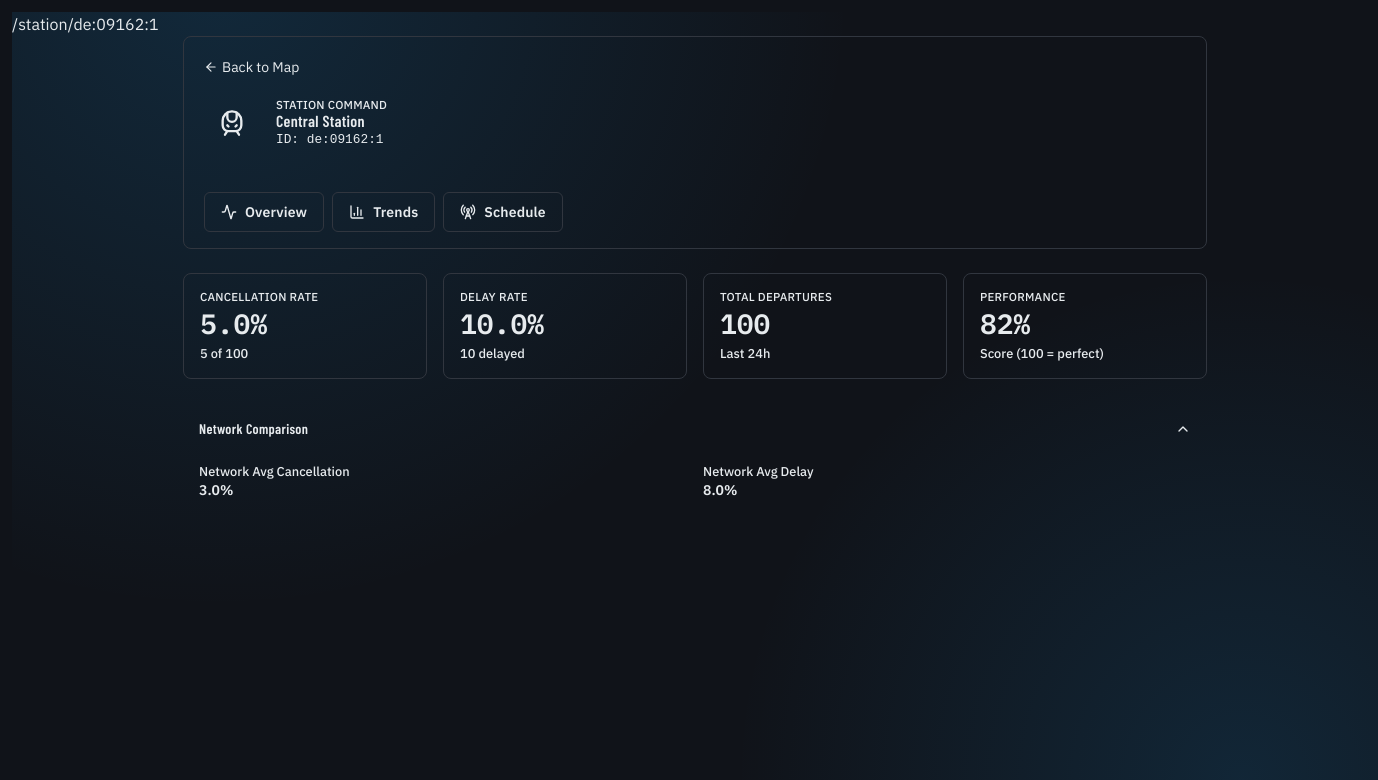
Test case: StationPage › switches to trends tab and updates URL
This screenshot has width=1378, height=780.
What coordinates should you click on to do the following:
click the button "Trends"
I would click on:
 (384, 212)
Its box is [332, 192, 435, 232].
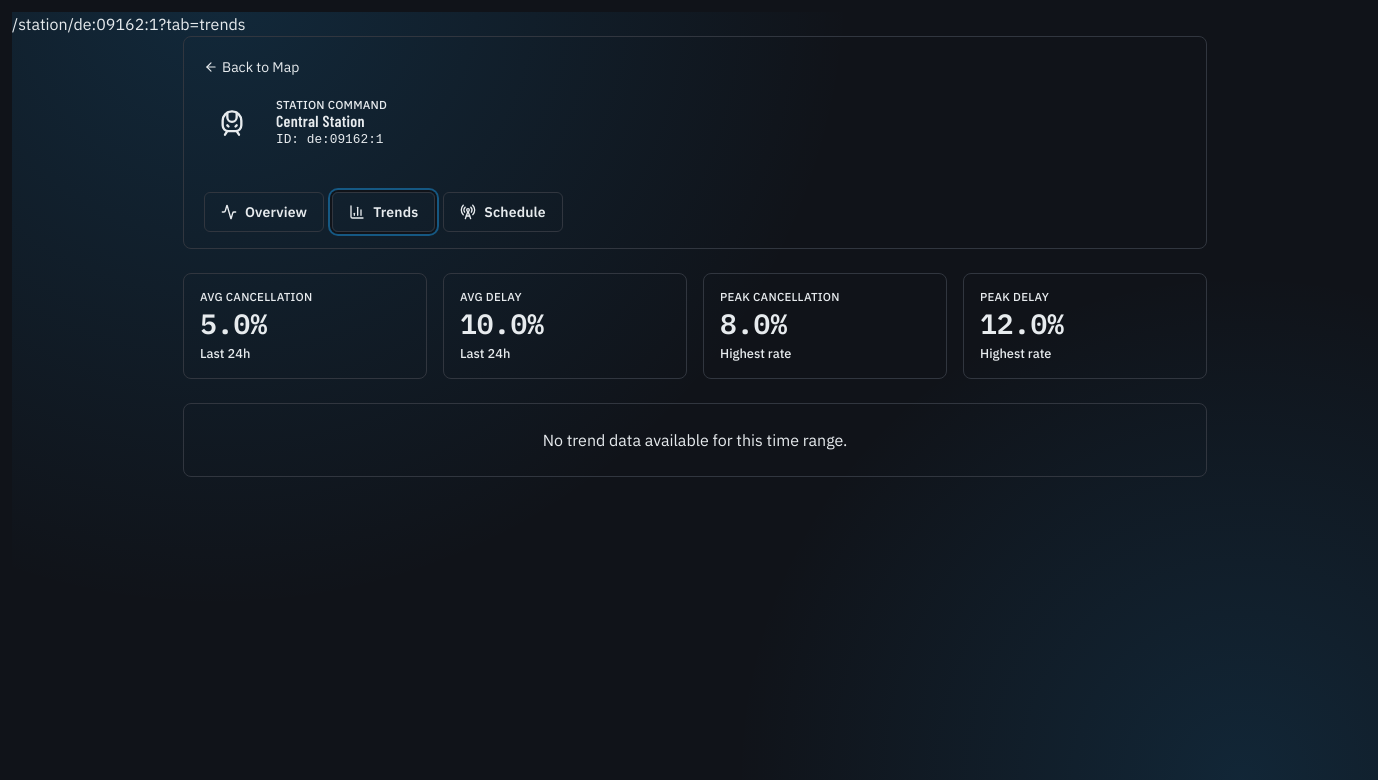
Check: the text with test id "location" shows "tab=trends", box [12, 14, 246, 34]
